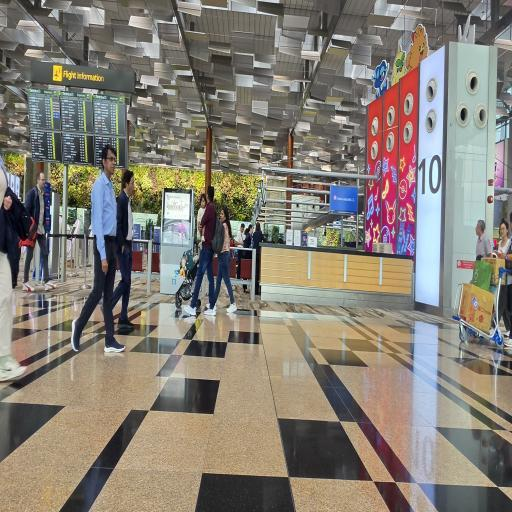person_left: (215, 199, 239, 317), (195, 175, 215, 315), (197, 190, 207, 238)
person_right: (84, 138, 117, 349), (1, 144, 25, 388), (112, 164, 136, 330), (26, 172, 52, 286)
